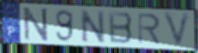9: (55, 9, 75, 43)
B: (107, 10, 134, 45)
N: (79, 8, 107, 44), (22, 7, 50, 42)
R: (137, 12, 162, 46)
V: (161, 11, 193, 50)
